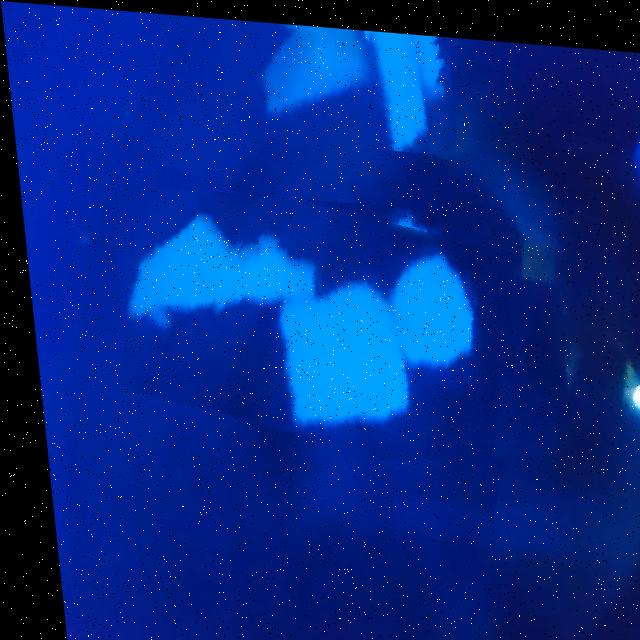thermocoal: (104, 181, 532, 490), (118, 216, 345, 402), (227, 15, 456, 148), (278, 278, 429, 456), (379, 238, 517, 389), (239, 15, 372, 129), (358, 23, 446, 140)
